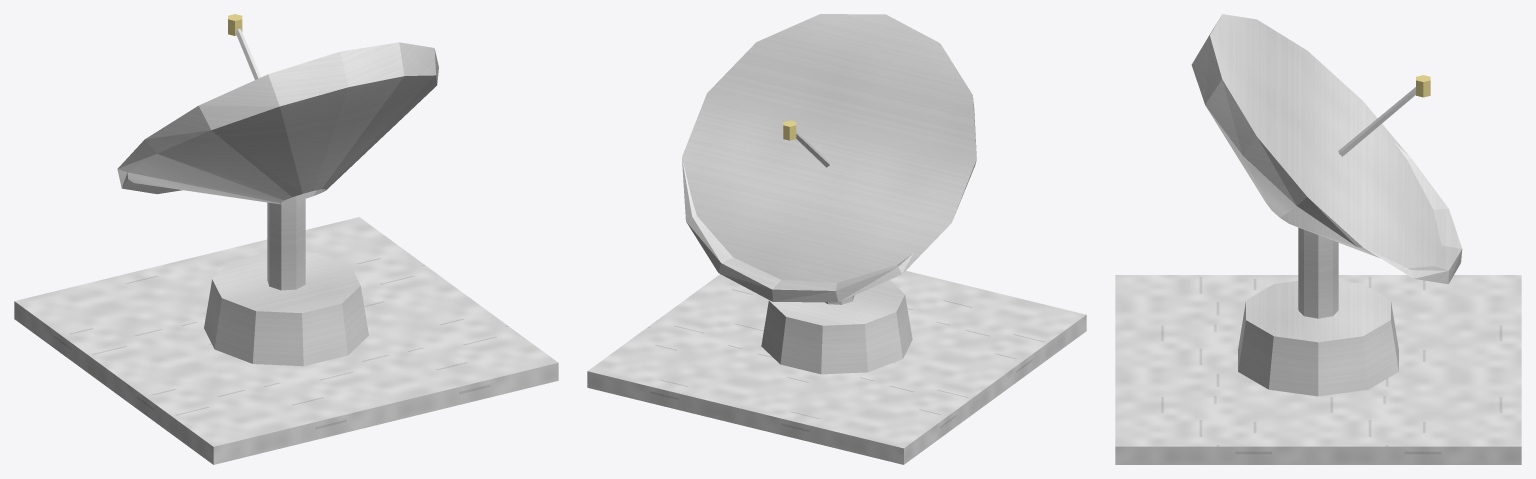
The model's file is mineral_scanner.obj.
The picture shows the model from 3 angles, left to right: view 1: azimuth 30°, elevation 25°; view 2: azimuth 150°, elevation 25°; view 3: azimuth 270°, elevation 25°; orthographic projection. The views are drawn at different scales.
Visible parts, largest first — view 1: mineral_scanner; view 2: mineral_scanner; view 3: mineral_scanner.
Part boxes in pixels (box(x1,y1,x2,y2)): mineral_scanner: box(14, 14, 558, 464); mineral_scanner: box(587, 14, 1086, 464); mineral_scanner: box(1115, 14, 1521, 464).
Size of the model in its own units: 2.4 by 2.24 by 2.4.
